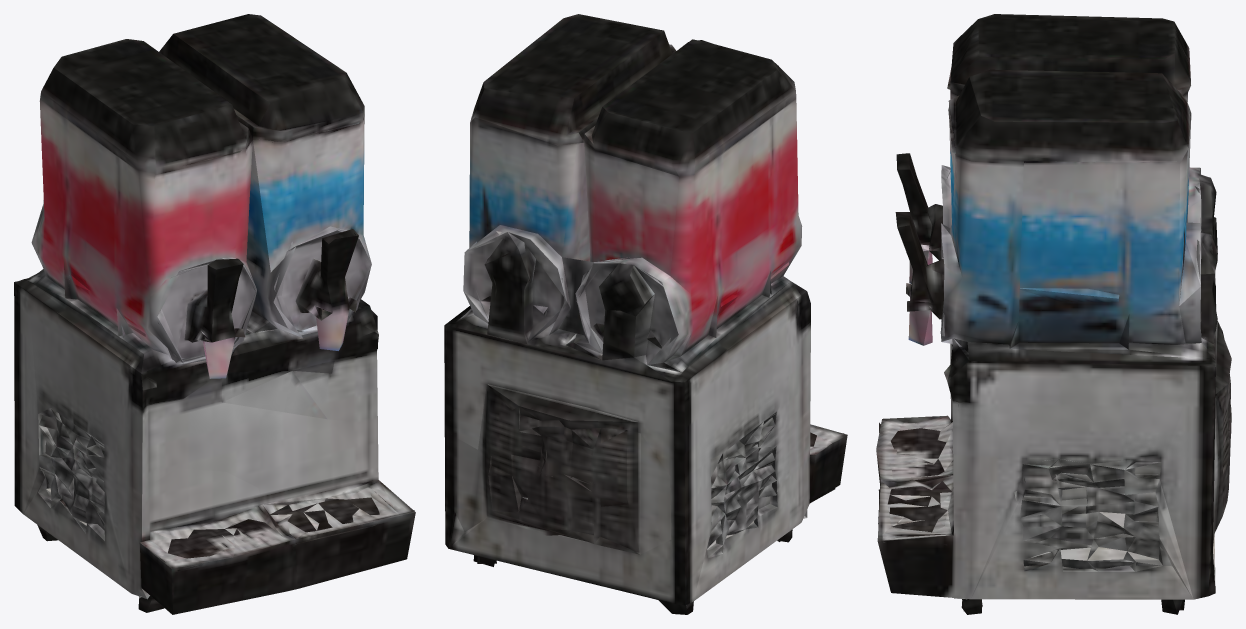
The model's file is p7-slush-machine.glb.
3 renders of one model, left to right at view 1: azimuth 30°, elevation 25°; view 2: azimuth 150°, elevation 25°; view 3: azimuth 270°, elevation 25°, orthographic. The views are drawn at different scales.
Parts seen in each view (by area): view 1: p7-slush-machine; view 2: p7-slush-machine; view 3: p7-slush-machine.
Part boxes in pixels (x1=…): p7-slush-machine: x1=14, y1=14, x2=415, y2=614; p7-slush-machine: x1=444, y1=14, x2=847, y2=614; p7-slush-machine: x1=876, y1=14, x2=1231, y2=614.
Bounding box in the file's own units: 0.45 × 0.85 × 0.55.
1 material, 1 textured.
